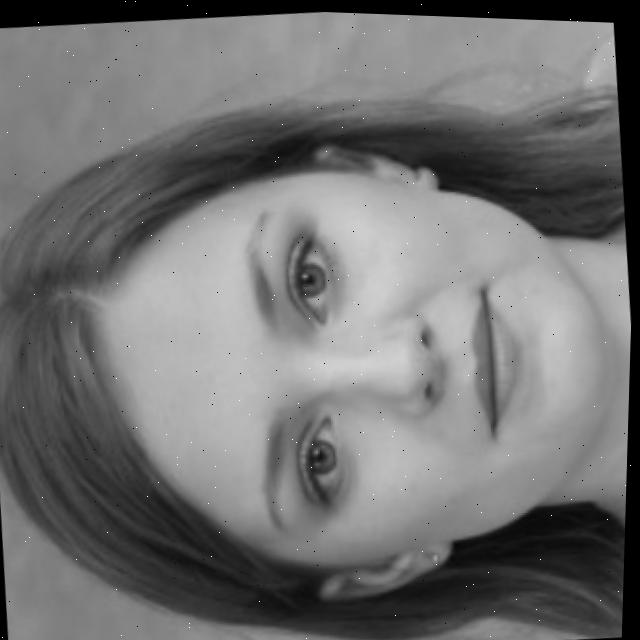natural: (0, 47, 596, 640)
